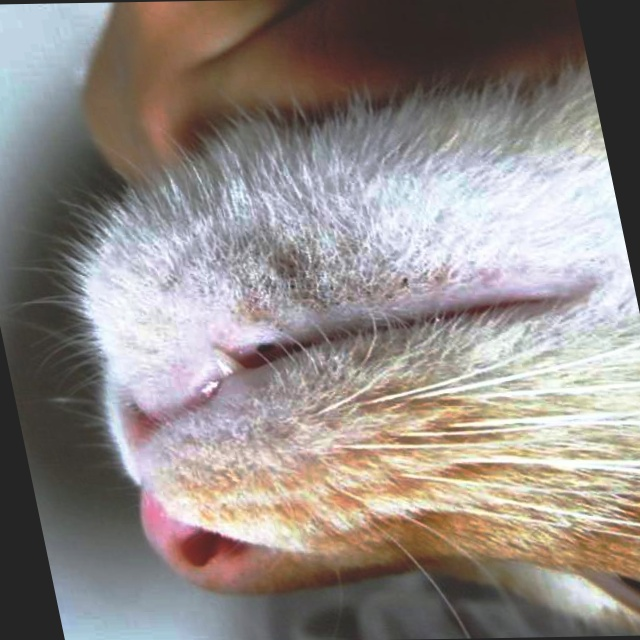acne: (214, 237, 424, 310)
